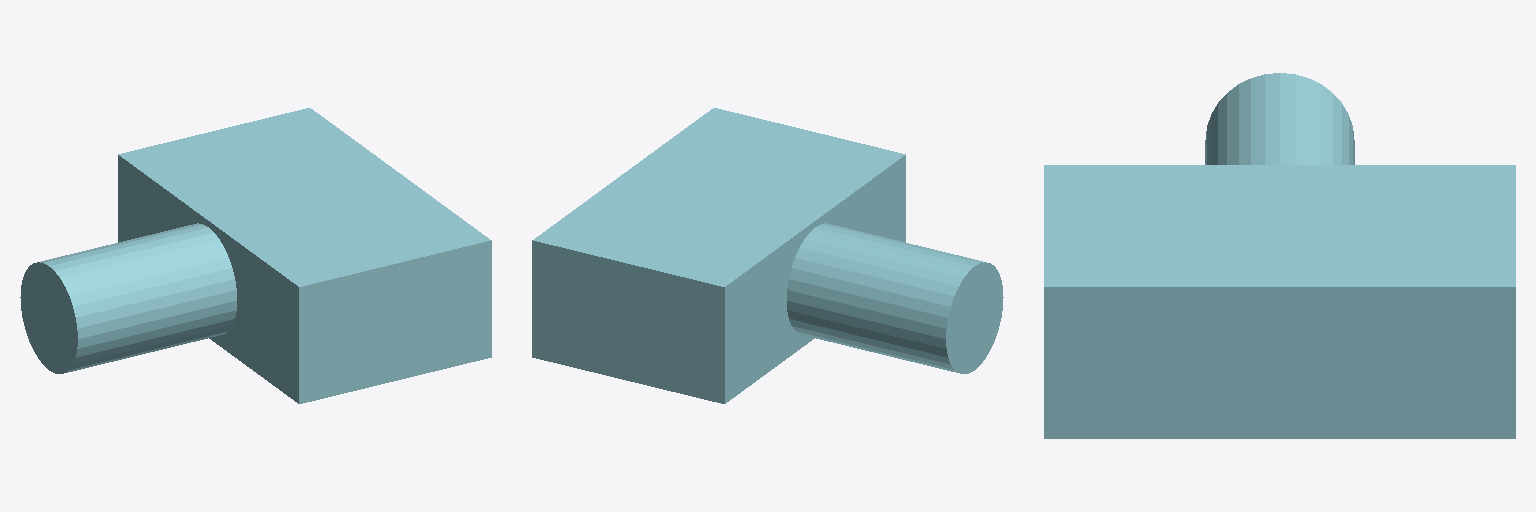
robot.urdf — cylinder_brush_v11015:
<?xml version="1.0"?>
<robot name="cylinder_brush_v11015">

  <link name="cylinder_brush_v11015">
    <!-- Handle -->
    <visual>
      <origin xyz="0 0 0" rpy="0 1.5707963267948966 0"/>
      <geometry>
        <cylinder length="0.05296496680140375" radius="0.016530936853435596"/>
      </geometry>
      <material name="material">
        <color rgba="0.639 0.847 0.882 1.0"/>
      </material>
    </visual>
    <collision>
      <origin xyz="0 0 0" rpy="0 1.5707963267948966 0"/>
      <geometry>
        <cylinder length="0.05296496680140375" radius="0.016530936853435596"/>
      </geometry>
    </collision>

    <!-- Head -->
    <visual>
      <origin xyz="0.05840582805477377 0 0" rpy="0 0 0"/>
      <geometry>
        <box size="0.06384668930814379 0.10447059957808086 0.0372126080279226"/>
      </geometry>
      <material name="material">
        <color rgba="0.639 0.847 0.882 1.0"/>
      </material>
    </visual>
    <collision>
      <origin xyz="0.05840582805477377 0 0" rpy="0 0 0"/>
      <geometry>
        <box size="0.06384668930814379 0.10447059957808086 0.0372126080279226"/>
      </geometry>
    </collision>

    <inertial>
      <density value="400.0"/>
    </inertial>
  </link>

</robot>

--- Facts derived from the render (not from the file) ---
The picture shows the robot from 3 angles, left to right: view 1: azimuth 30°, elevation 25°; view 2: azimuth 150°, elevation 25°; view 3: azimuth 270°, elevation 25°; orthographic projection.
Robot: cylinder_brush_v11015 — 1 links, 0 joints (none); root link cylinder_brush_v11015; default pose: every joint at zero.
Visible links, largest first — view 1: cylinder_brush_v11015; view 2: cylinder_brush_v11015; view 3: cylinder_brush_v11015.
Boxes of the visible links, x1,y1,x2,y2 form: cylinder_brush_v11015: (20, 108, 491, 403); cylinder_brush_v11015: (532, 108, 1003, 403); cylinder_brush_v11015: (1044, 73, 1515, 438).
Bounding box of the posed robot: 0.1168 × 0.1045 × 0.0372 m (x, y, z).
Geometry: primitives only (box / cylinder / sphere), no mesh files.
